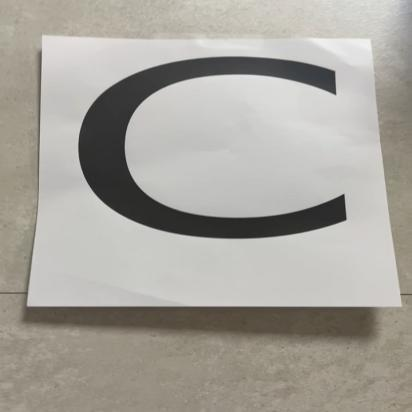seat: (41, 31, 390, 278)
